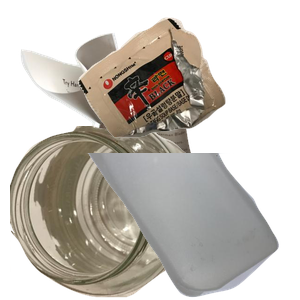glass: (10, 126, 216, 300)
paper: (18, 30, 213, 210)
plastic: (84, 153, 300, 300)
trash: (76, 15, 300, 145)
